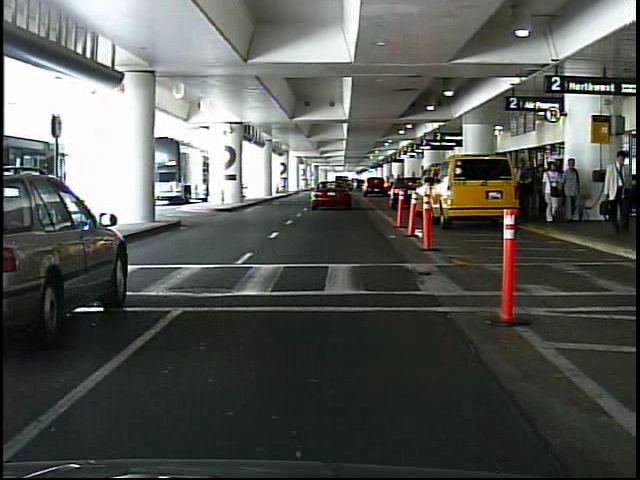person: (597, 149, 635, 240), (561, 158, 584, 224), (544, 159, 564, 225)
